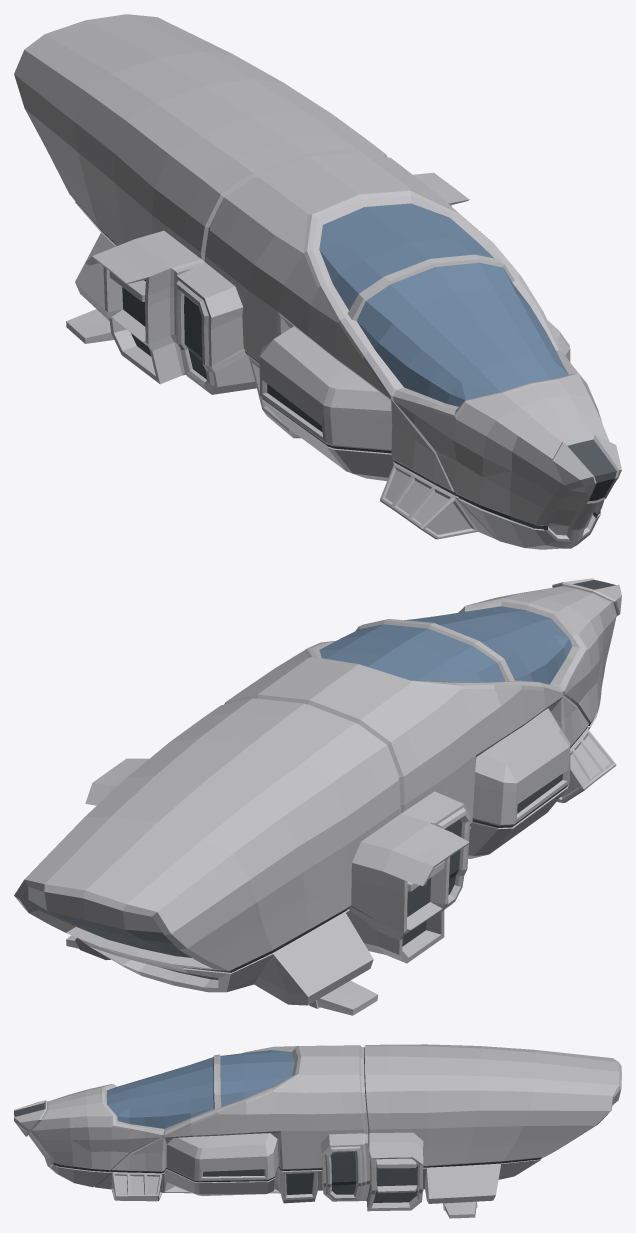
File: Fighter_07_Body_Neutral.fbx
3 views of the same model, one above another, from view 1: azimuth 30°, elevation 25°; view 2: azimuth 150°, elevation 25°; view 3: azimuth 270°, elevation 25° (orthographic). The views are drawn at different scales.
Visible parts, largest first — view 1: Fighter_07_Body_Neutral; view 2: Fighter_07_Body_Neutral; view 3: Fighter_07_Body_Neutral.
Boxes of the visible parts, x1,y1,x2,y2 form: Fighter_07_Body_Neutral: (14, 14, 621, 549); Fighter_07_Body_Neutral: (14, 578, 621, 1015); Fighter_07_Body_Neutral: (14, 1044, 621, 1218).
Bounding box in the file's own units: 808 × 505 × 2135.
3 materials, 3 textured.
